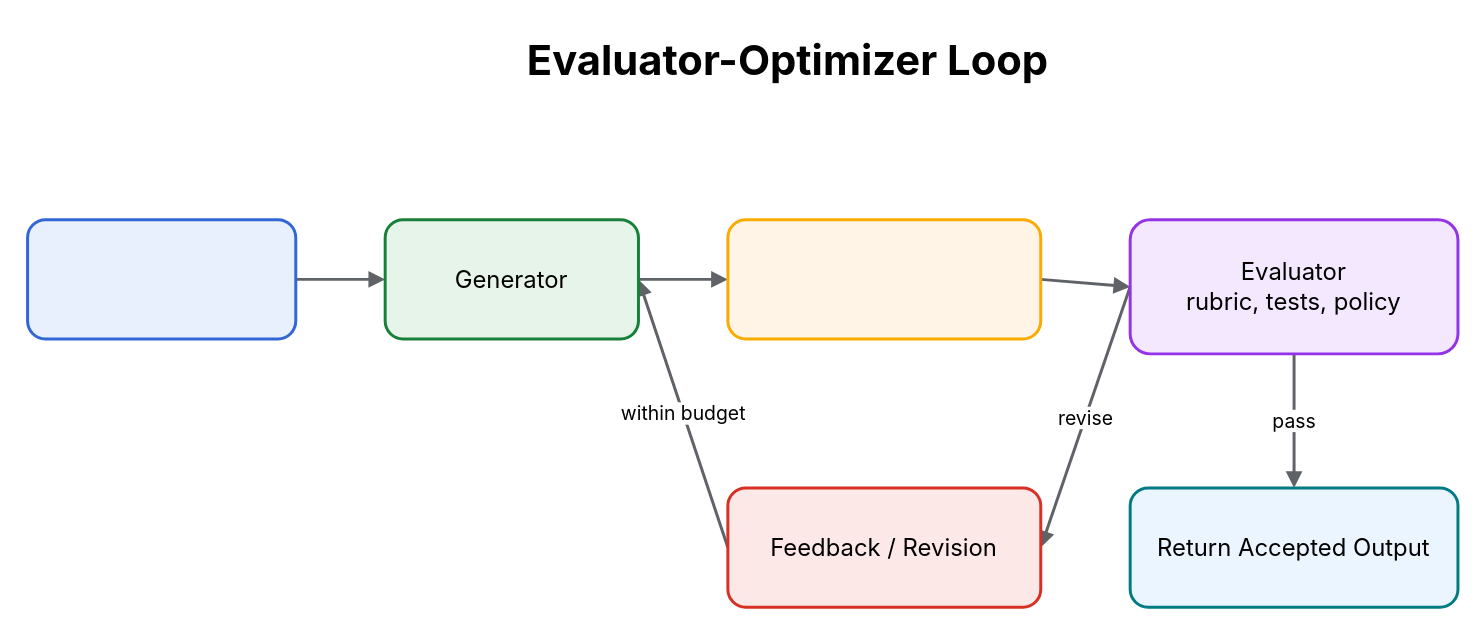
Image size: 1484x633. Some labels were removed from this diagram. Here are the shapes that lost their labels. From the top down, the centre of each, then its label:
the point at 161,279: Input + Criteria
the point at 884,279: Candidate Output
